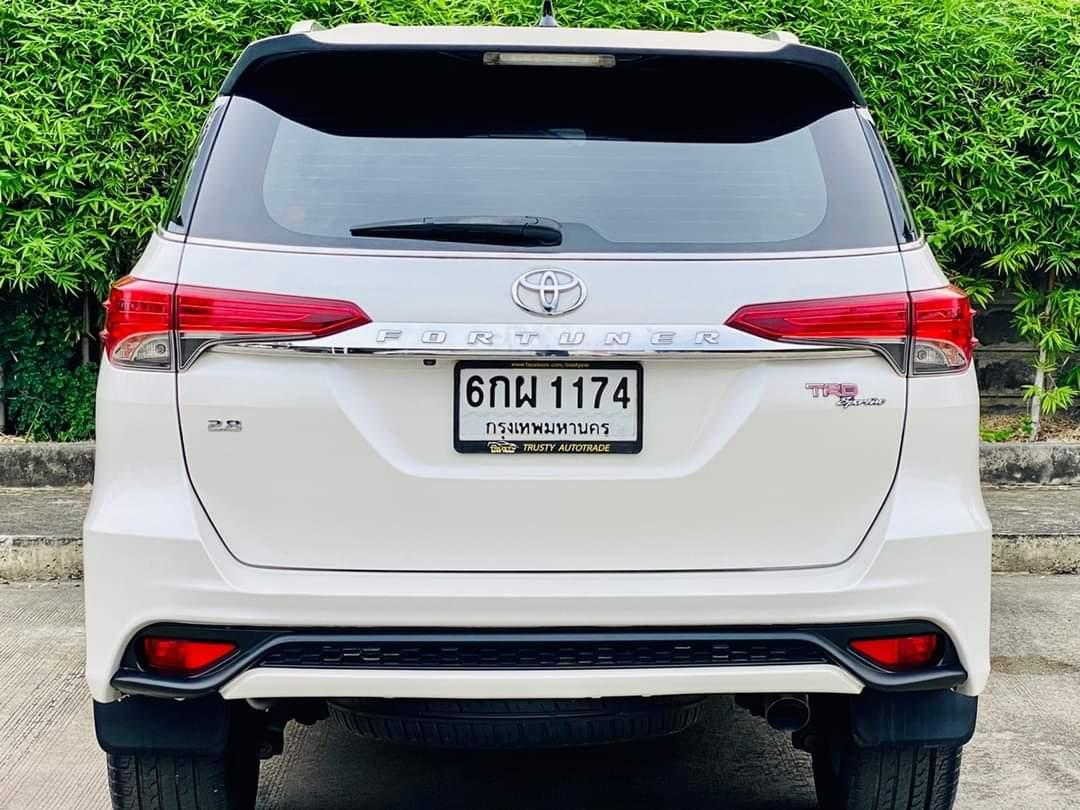license-plate: (452, 354, 646, 457)
